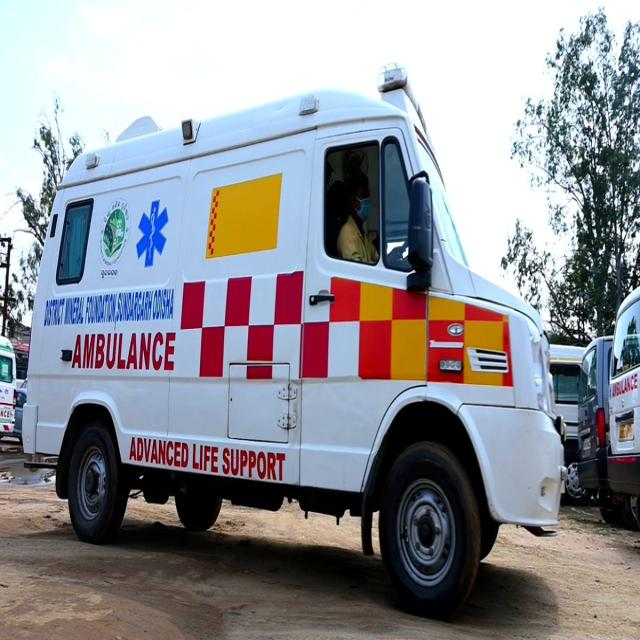emergency: (22, 69, 562, 614)
